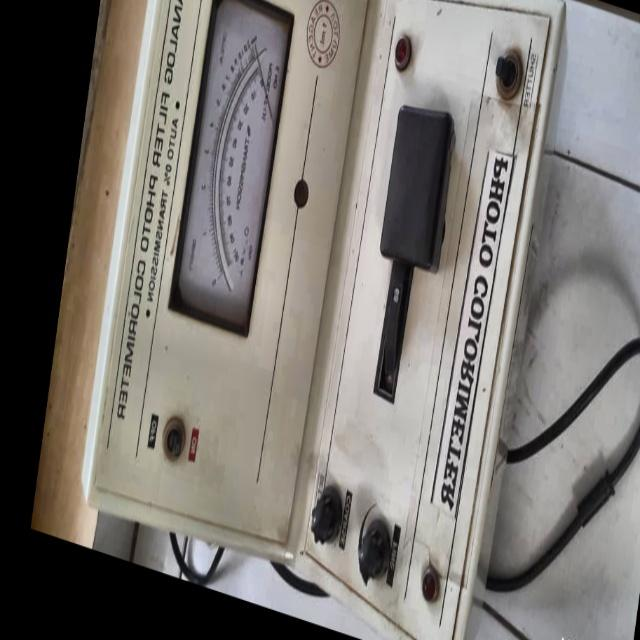Photocolorimeter: (73, 0, 574, 640)
